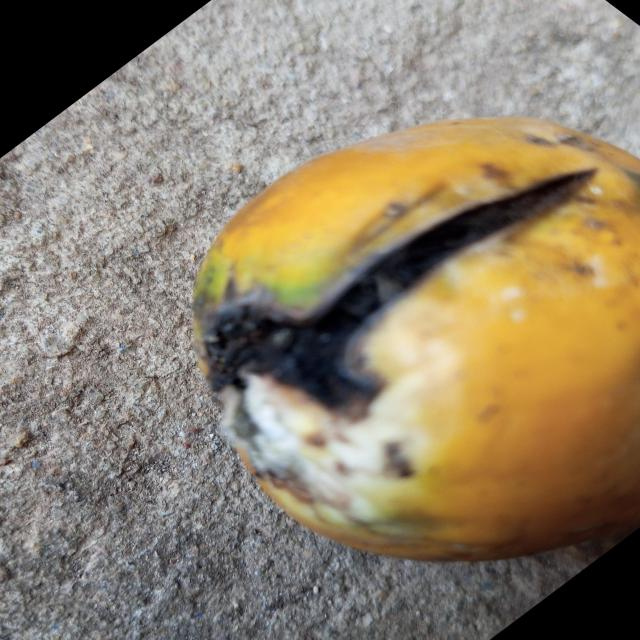damaged: (193, 118, 640, 560)
